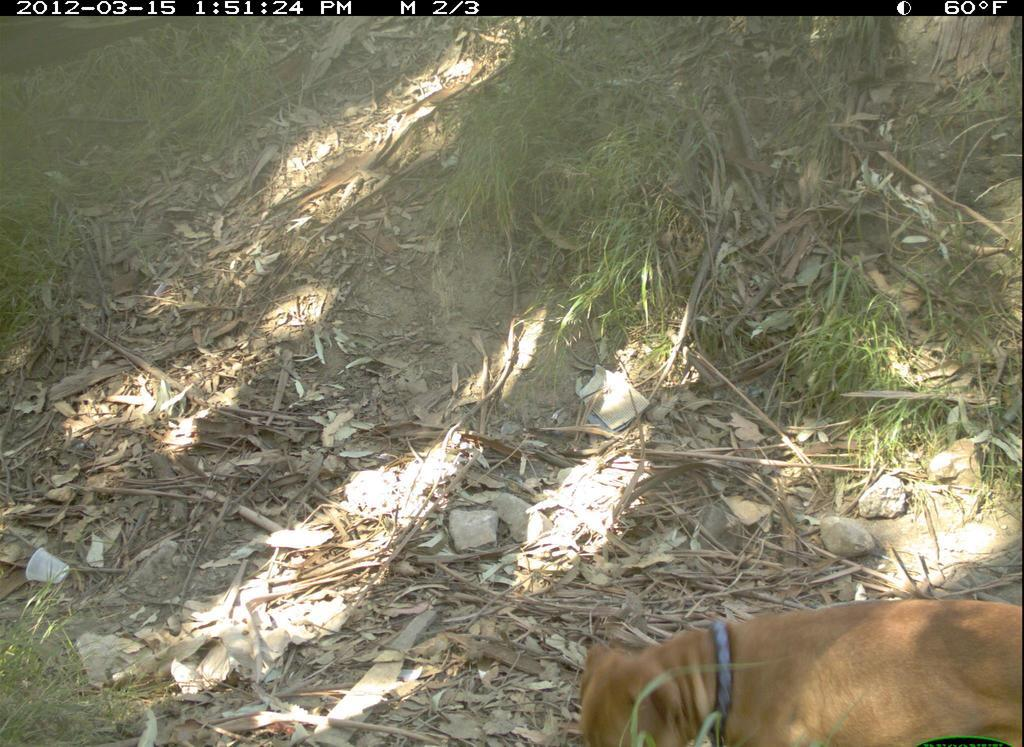dog: (562, 569, 1023, 745)
